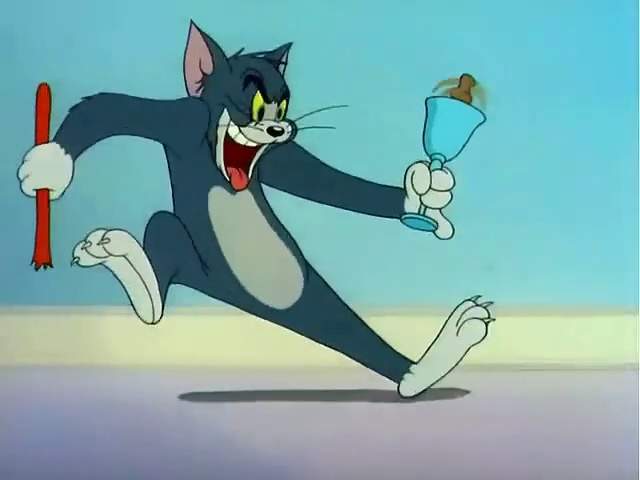tom: (21, 17, 507, 436)
